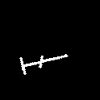double_crochet: (20, 54, 66, 73)
